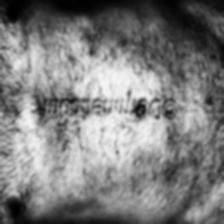Toxin: (204, 98, 216, 112), (123, 86, 134, 100)
